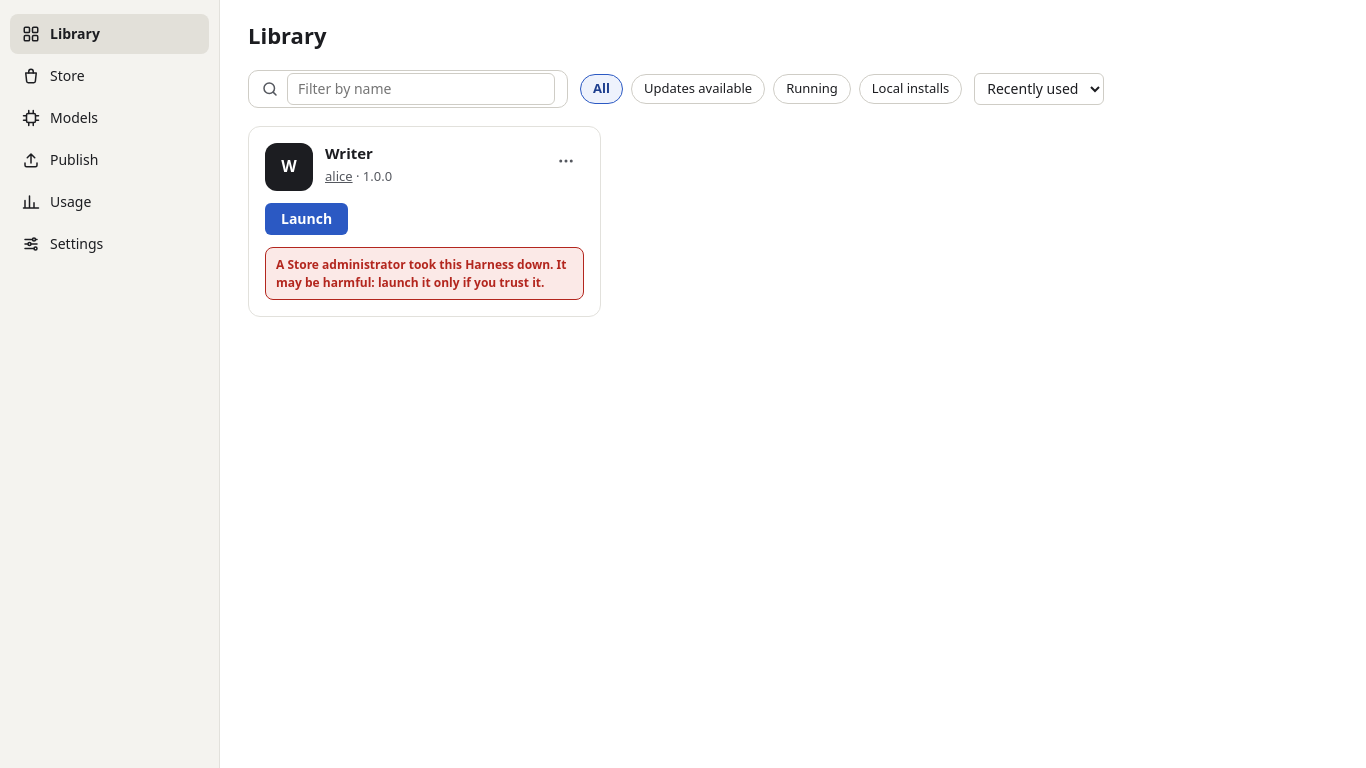
Scenario: a taken-down install (en) › asks before Launch; Cancel launches nothing and records nothing
Click the button "Launch". click: (307, 219)
box: [265,203,348,235]
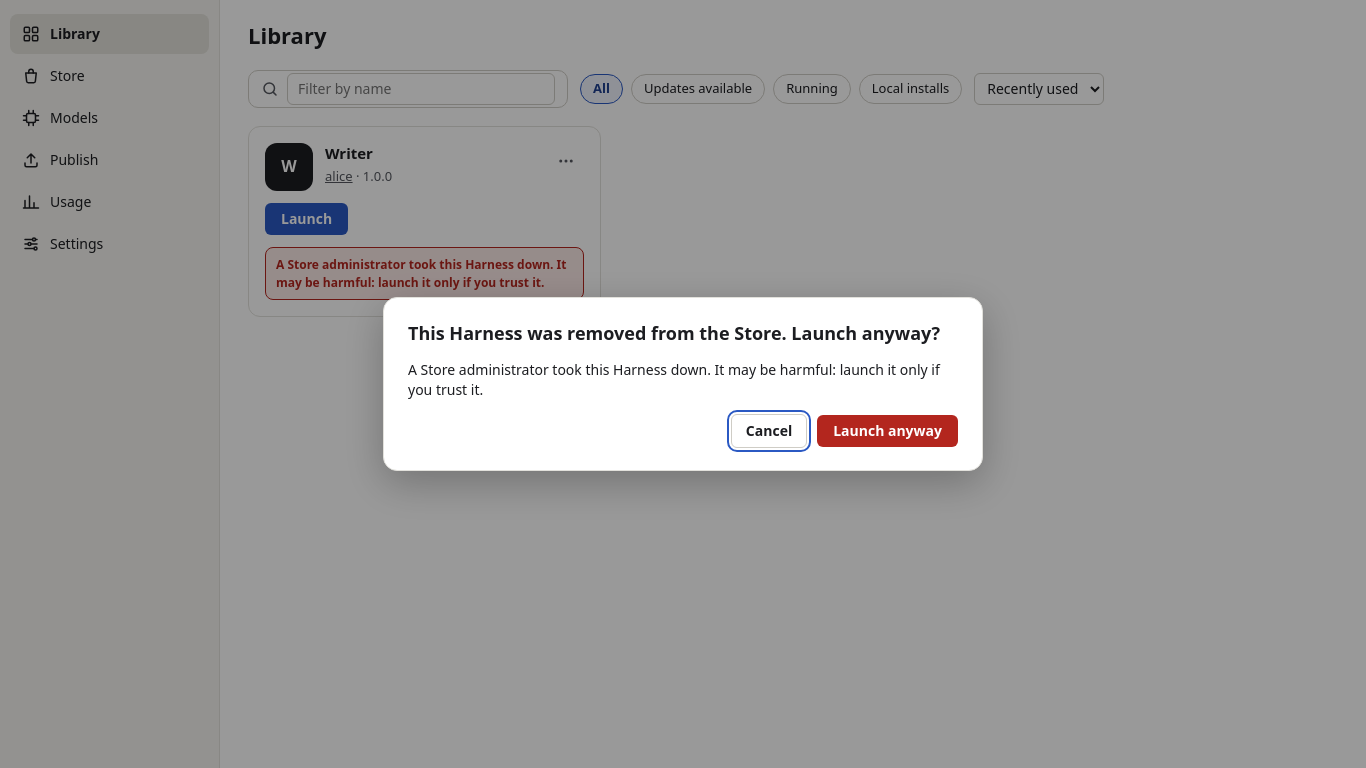
Now the 2nd text "A Store administrator took this Harness down. It may be harmful: launch it only if you trust it." is shown, box [408,360,940,399]
Click the button "Cancel". click: (769, 431)
box: [731,414,807,448]
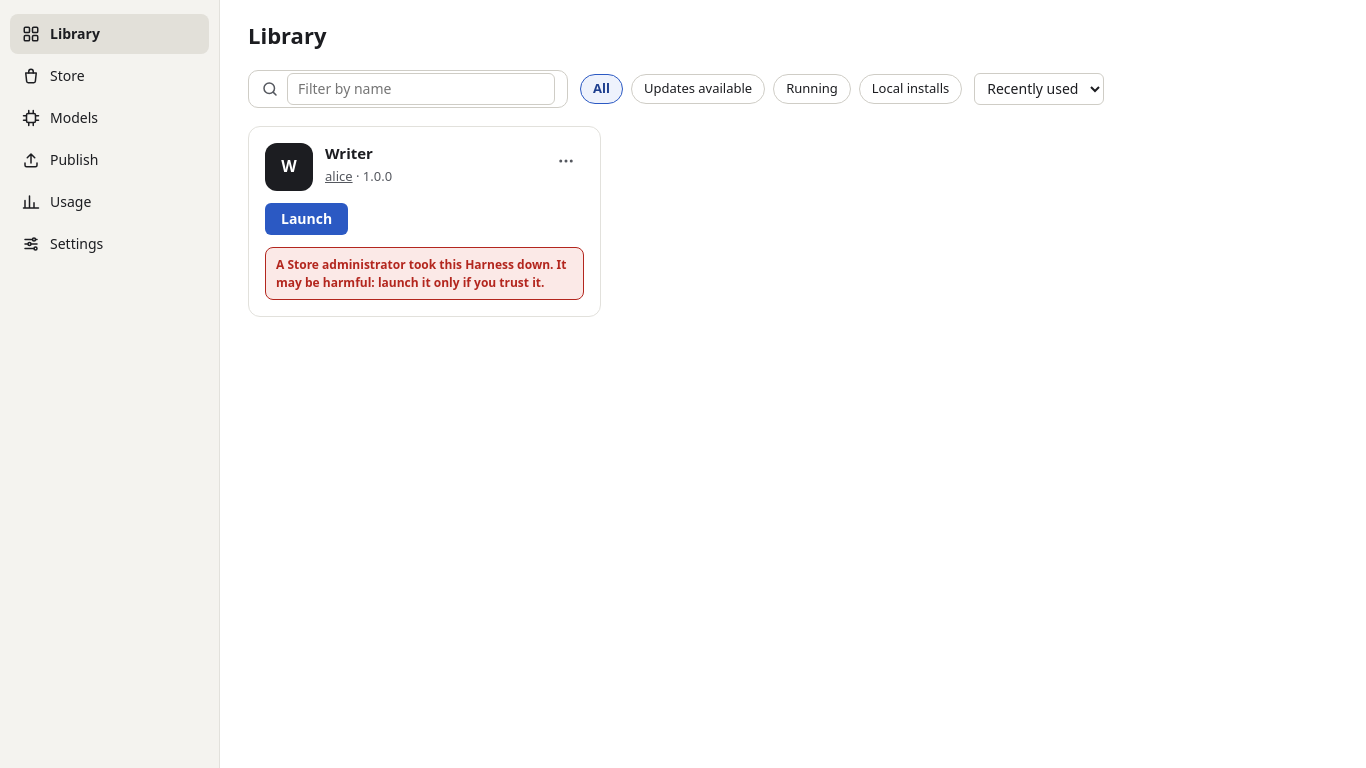
Now the dialog is gone
// Escape is a Cancel too.
Click the button "Launch". click: (307, 219)
box: [265,203,348,235]
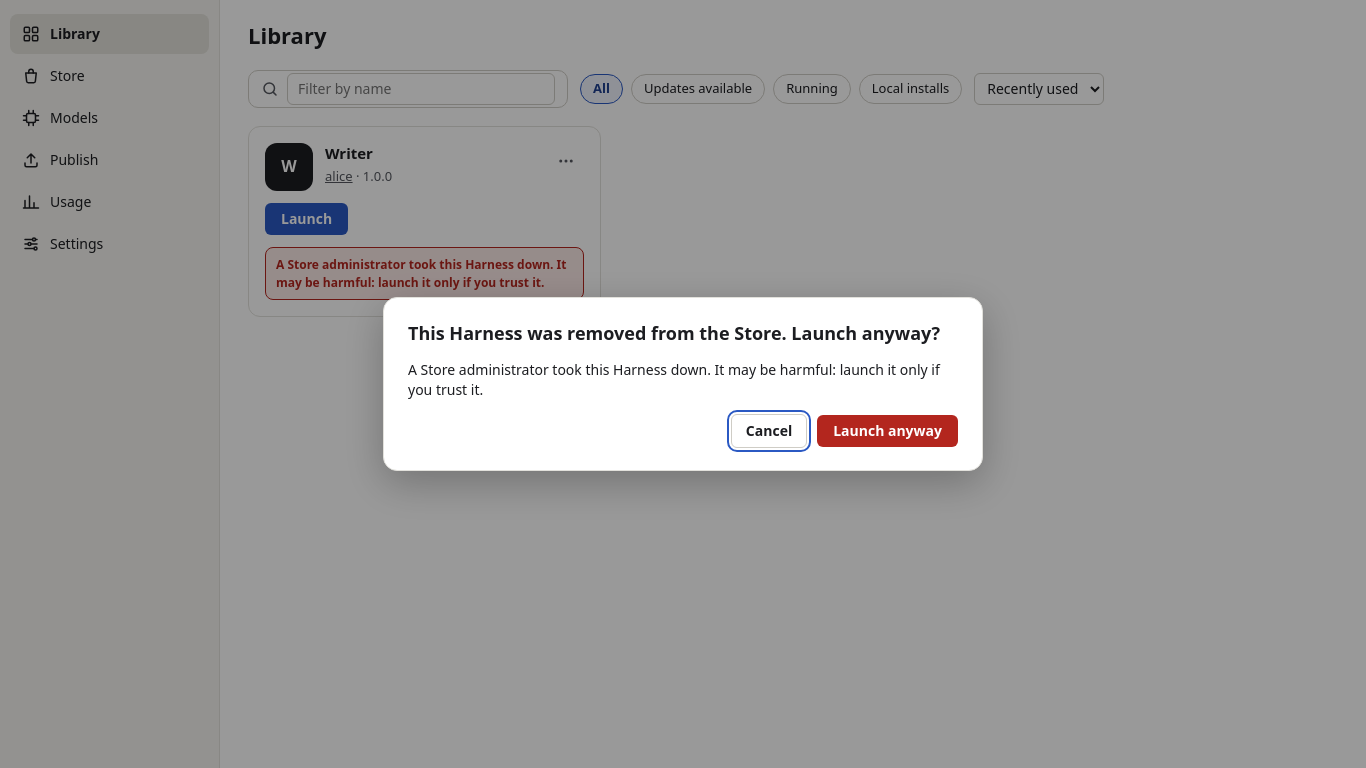
Press Escape in the dialog "This Harness was removed from the Store. Launch anyway?", box [383,296,983,472]
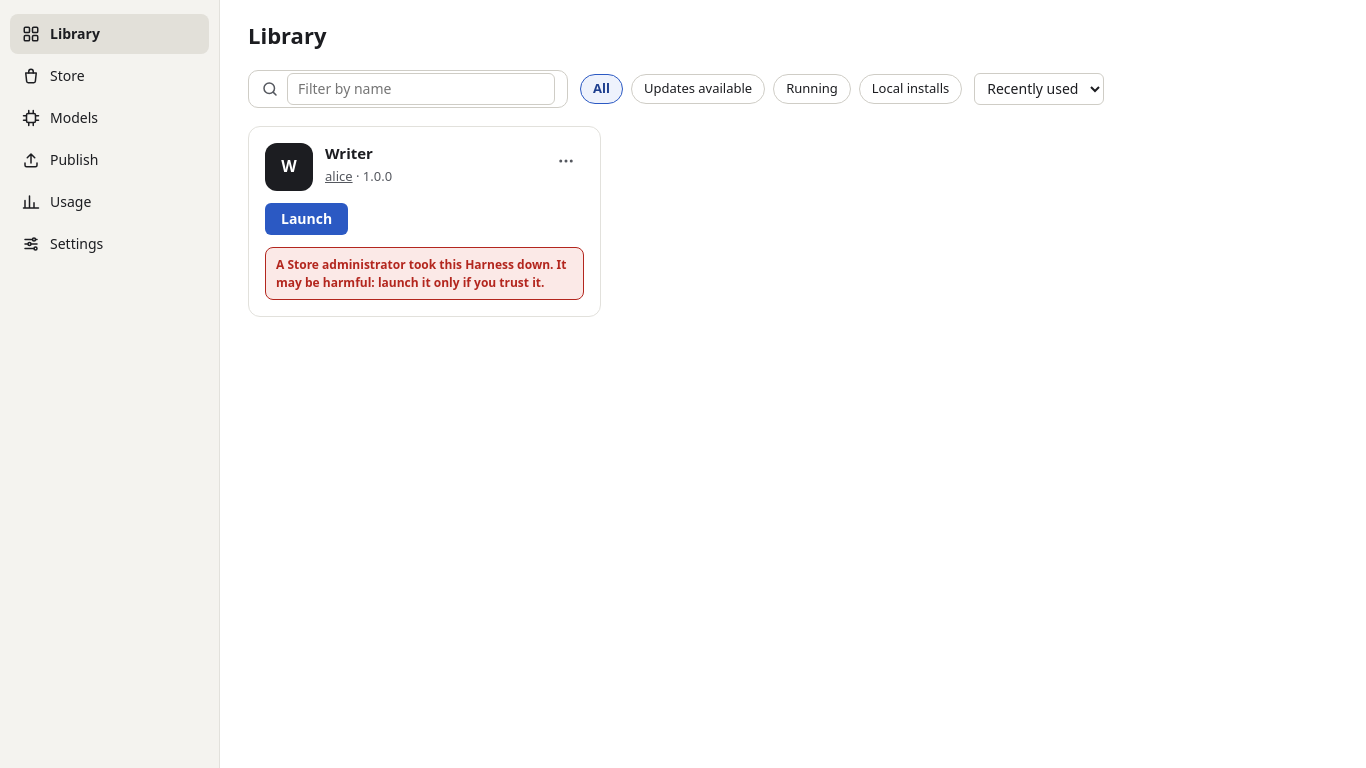
Now the dialog is gone
